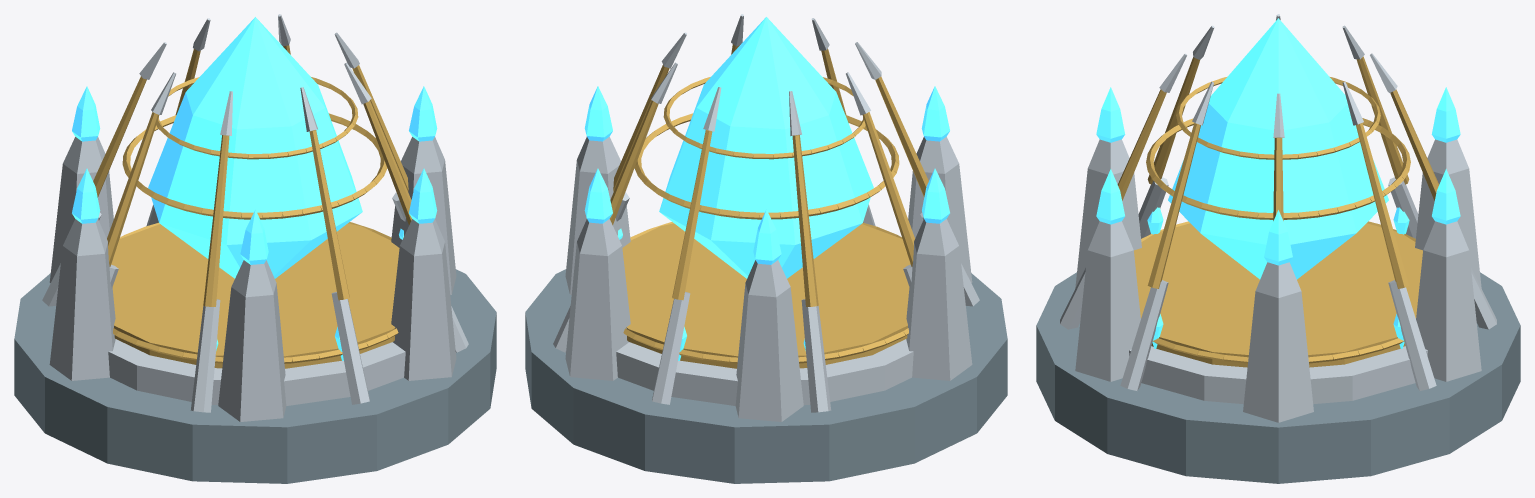
The model's file is lux_core_architecture_review.glb.
3 views of the same model, side by side, from view 1: azimuth 30°, elevation 25°; view 2: azimuth 150°, elevation 25°; view 3: azimuth 270°, elevation 25° (orthographic).
Parts seen in each view (by area): view 1: lux_core; view 2: lux_core; view 3: lux_core.
Part boxes in pixels (x1,y1,x2,y2): lux_core: (14, 14, 496, 483); lux_core: (525, 14, 1007, 483); lux_core: (1036, 14, 1520, 483).
Size of the model in its own units: 7 by 5.8 by 7.
